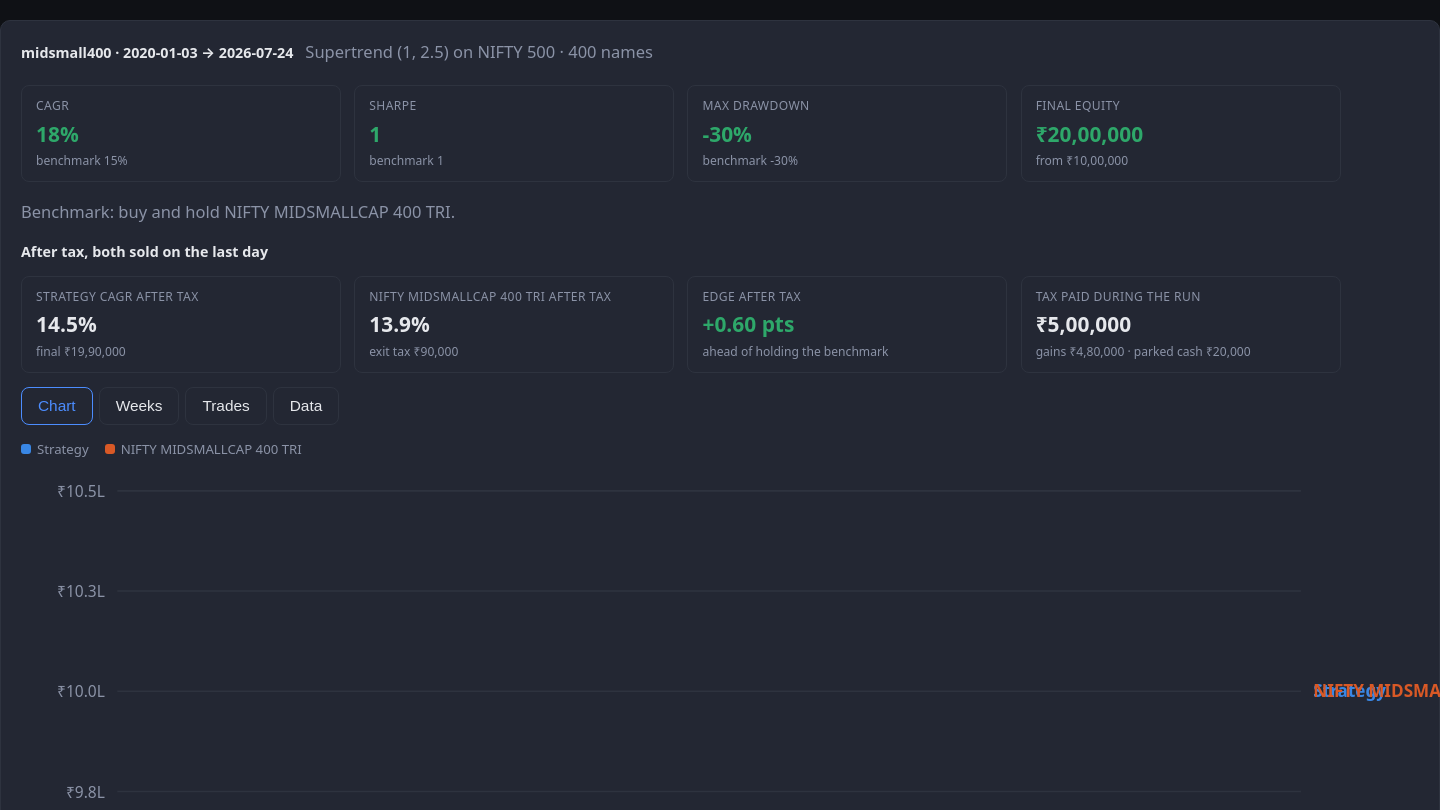
Scenario: RunResult — Spec v2.3 additions › shows orders unfilled due to missing opens, including older results
The width and height of the screenshot is (1440, 810).
Click the button "Weeks". click: (139, 406)
box: [99,387,179,425]
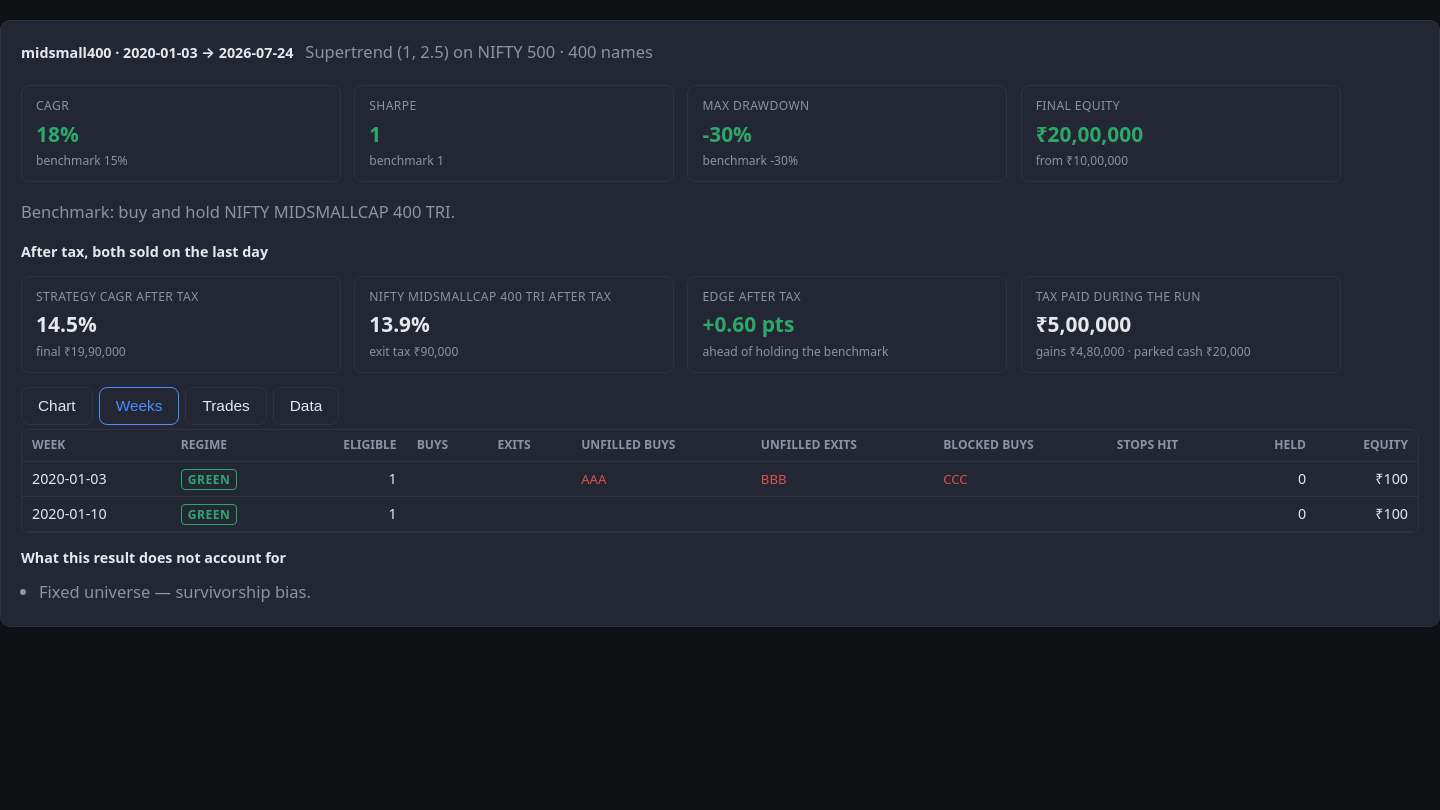
Result: the column heading "Unfilled buys" is shown at [571,430,751,461]
Result: the column heading "Unfilled exits" is shown at [751,430,933,461]
Result: the column heading "Blocked buys" is shown at [933,430,1107,461]
